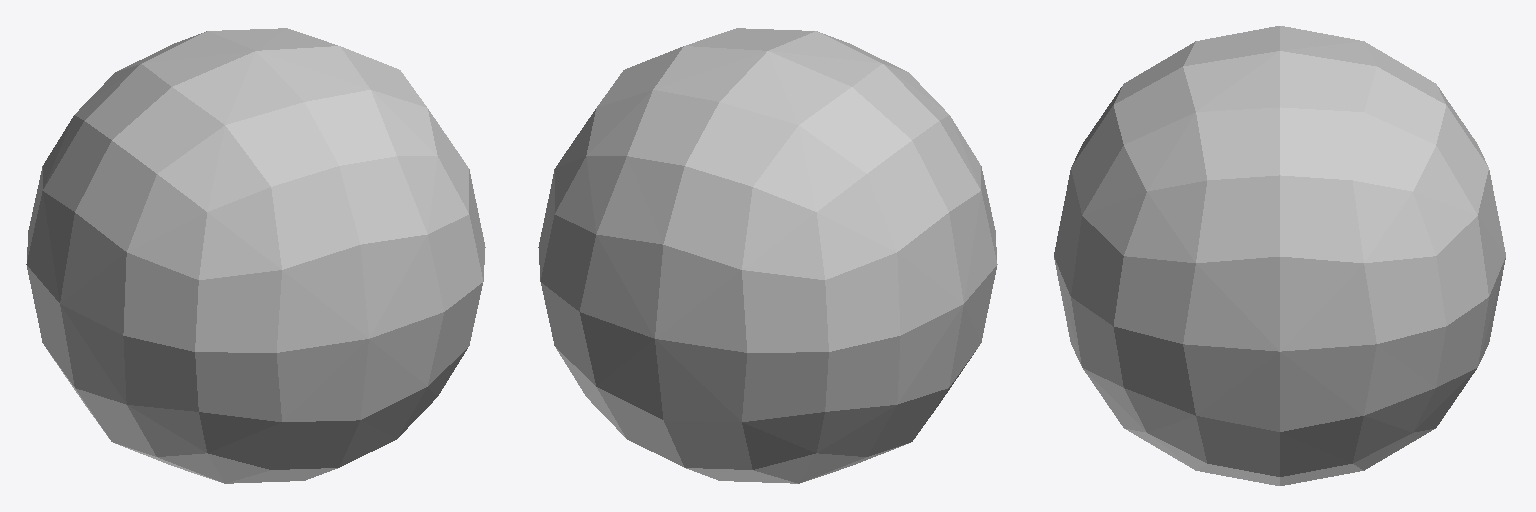
The model's file is cube_subdiv_1.obj.
3 renders of one model, left to right at view 1: azimuth 30°, elevation 25°; view 2: azimuth 150°, elevation 25°; view 3: azimuth 270°, elevation 25°, orthographic.
Visible parts, largest first — view 1: Cube_Cube.001; view 2: Cube_Cube.001; view 3: Cube_Cube.001.
Boxes of the visible parts, box(x1,y1,x2,y2) form: Cube_Cube.001: box(26, 28, 485, 483); Cube_Cube.001: box(538, 28, 997, 483); Cube_Cube.001: box(1054, 26, 1505, 485).
Size of the model in its own units: 1.71 by 1.71 by 1.71.